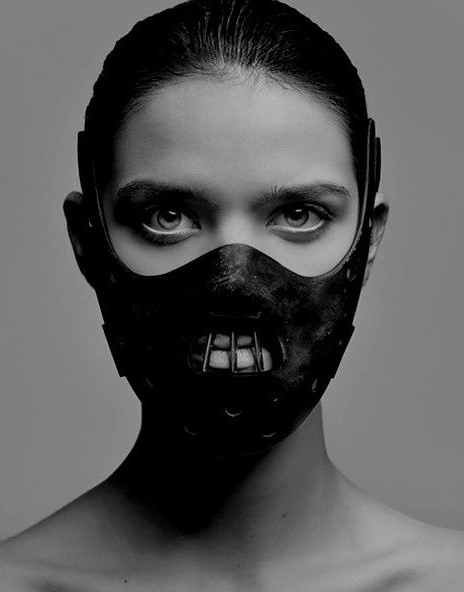face_with_mask: (63, 4, 384, 458)
